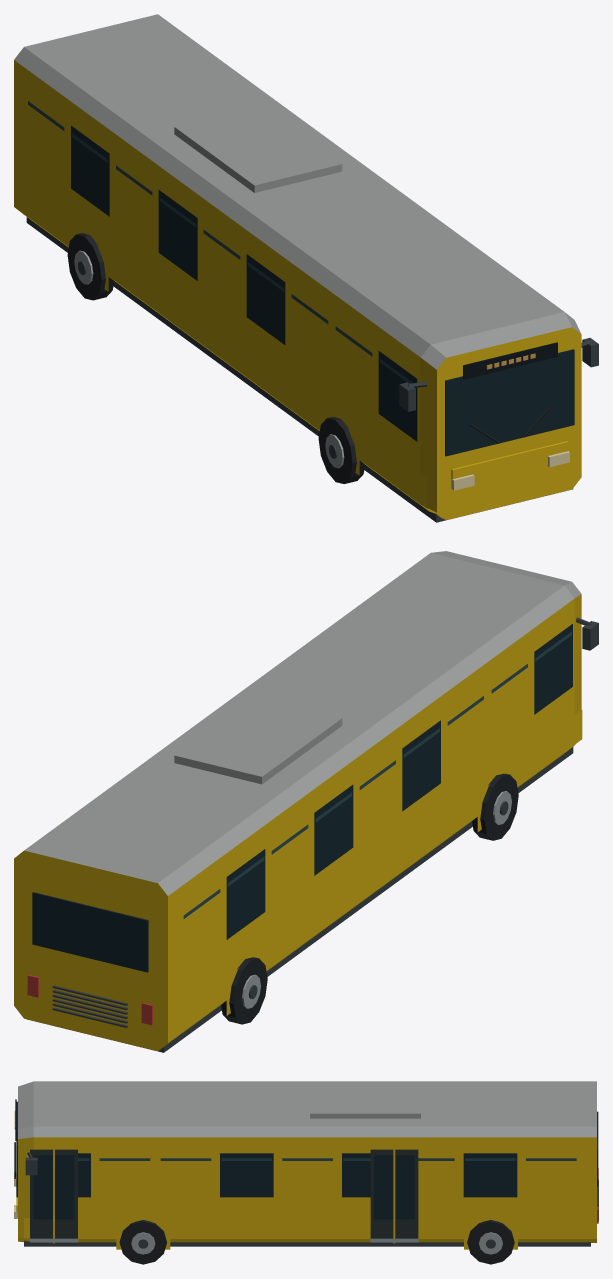
Rendered from bus-bvg-solo.glb.
3 views of the same model, one above another, from view 1: azimuth 30°, elevation 25°; view 2: azimuth 150°, elevation 25°; view 3: azimuth 270°, elevation 25° (orthographic). The views are drawn at different scales.
Parts seen in each view (by area): view 1: bus-bvg-solo.segment-01.005; view 2: bus-bvg-solo.segment-01.005; view 3: bus-bvg-solo.segment-01.005.
Part boxes in pixels (bbox=[...]): bus-bvg-solo.segment-01.005: bbox=[14, 14, 598, 522]; bus-bvg-solo.segment-01.005: bbox=[14, 551, 598, 1052]; bus-bvg-solo.segment-01.005: bbox=[14, 1081, 598, 1264].
Bounding box in the file's own units: 3.16 × 3.15 × 12.12.
